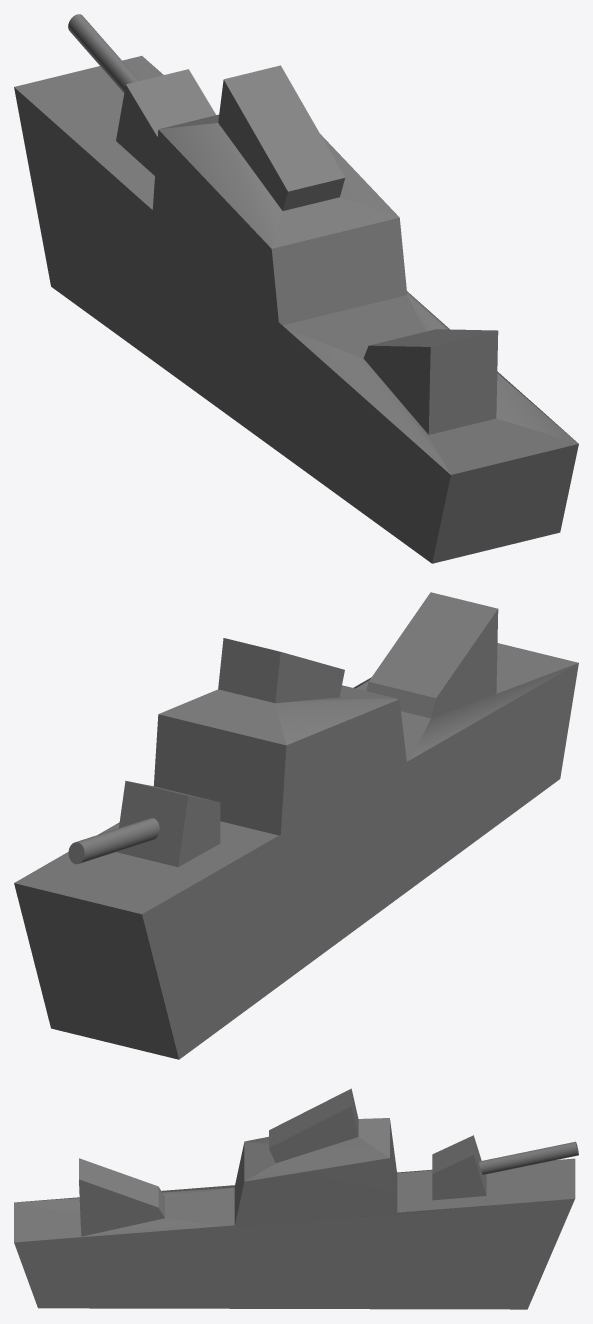
The model's file is Fish.fbx.
3 renders of one model, top to bottom at view 1: azimuth 30°, elevation 25°; view 2: azimuth 150°, elevation 25°; view 3: azimuth 270°, elevation 25°, orthographic. The views are drawn at different scales.
Parts seen in each view (by area): view 1: base, turret; view 2: base, turret; view 3: base, turret.
Boxes of the visible parts, x1,y1,x2,y2 form: base: (14,56,578,563); turret: (68,14,215,175); base: (14,592,578,1059); turret: (68,780,220,866); base: (14,1088,575,1309); turret: (432,1135,578,1200).
Bounding box in the file's own units: 225 × 502 × 1338.
Materials: 1 (1 with a texture image).
